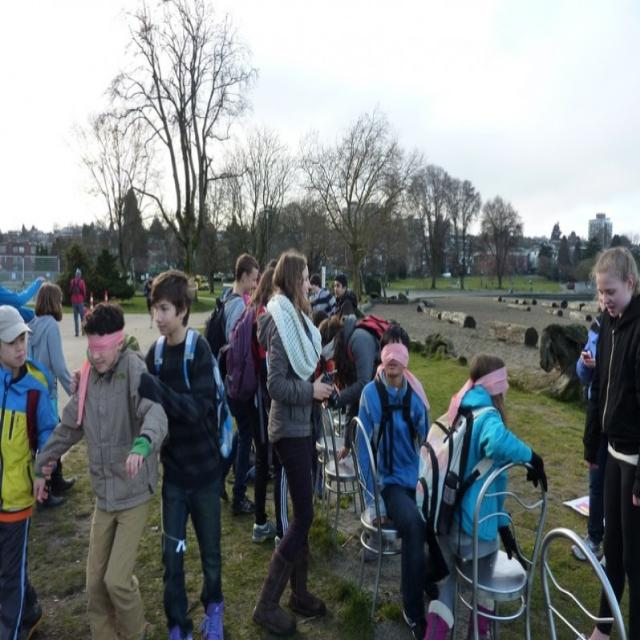body: (31, 298, 172, 639), (414, 351, 548, 639), (249, 245, 344, 639), (134, 268, 227, 640), (354, 316, 432, 639), (578, 241, 640, 639), (0, 299, 58, 640), (203, 252, 261, 502), (316, 310, 402, 466), (23, 280, 81, 509), (249, 258, 291, 553), (570, 288, 609, 571), (244, 260, 362, 310), (0, 261, 43, 320), (307, 272, 339, 318), (69, 268, 87, 338), (331, 273, 356, 321), (141, 270, 158, 332), (307, 311, 329, 334)
